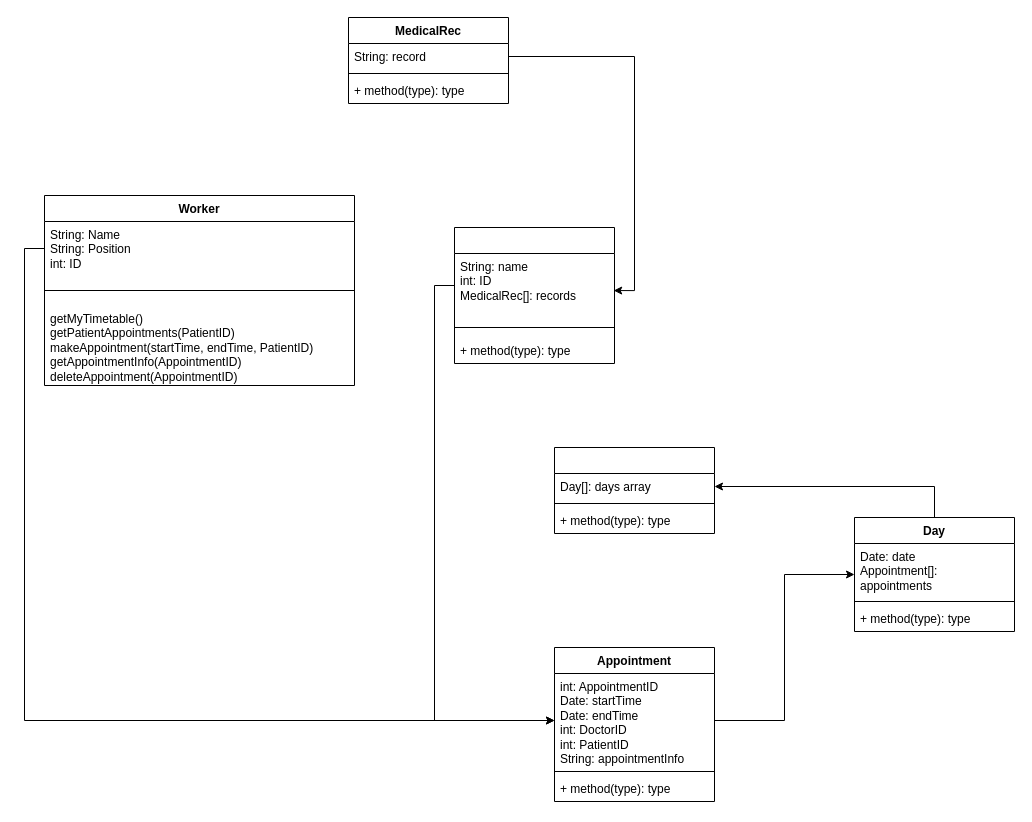
This 1032x822 diagram has some shape labels left out. The shapes that lost their labels are listed below. From the top down, each one's box as (x1, y1, x2, y2) in pixels, then its label:
(454, 226, 614, 364): Patient
(554, 446, 714, 534): Calendar
